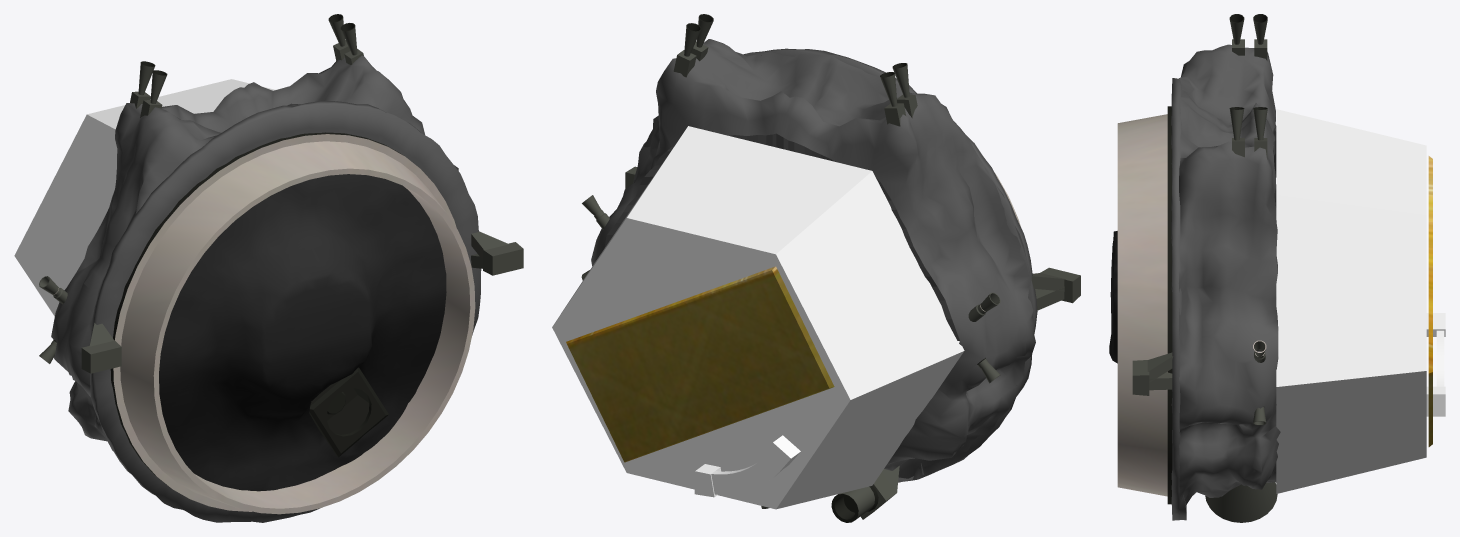
Rendered from Deep Impact.glb.
The picture shows the model from 3 angles, left to right: view 1: azimuth 30°, elevation 25°; view 2: azimuth 150°, elevation 25°; view 3: azimuth 270°, elevation 25°; orthographic projection. The views are drawn at different scales.
Parts seen in each view (by area): view 1: foil_silver_I, tex_01_I, black_krinkle_I, aluminum_I; view 2: aluminum_I, black_krinkle_I, tex_01_I; view 3: aluminum_I, black_krinkle_I, tex_01_I, foil_silver_I.
Boxes of the visible parts, x1,y1,x2,y2 form: foil_silver_I: (159, 174, 446, 491); tex_01_I: (39, 14, 523, 514); black_krinkle_I: (51, 55, 481, 522); aluminum_I: (14, 79, 275, 316); aluminum_I: (552, 126, 964, 509); black_krinkle_I: (591, 39, 1037, 482); tex_01_I: (566, 14, 1080, 522); aluminum_I: (1276, 109, 1445, 493); black_krinkle_I: (1171, 44, 1280, 520); tex_01_I: (1117, 14, 1432, 522); foil_silver_I: (1109, 231, 1117, 363).
Size of the model in its own units: 1.25 by 1.25 by 0.8549.
Materials: 4 (2 with a texture image).
